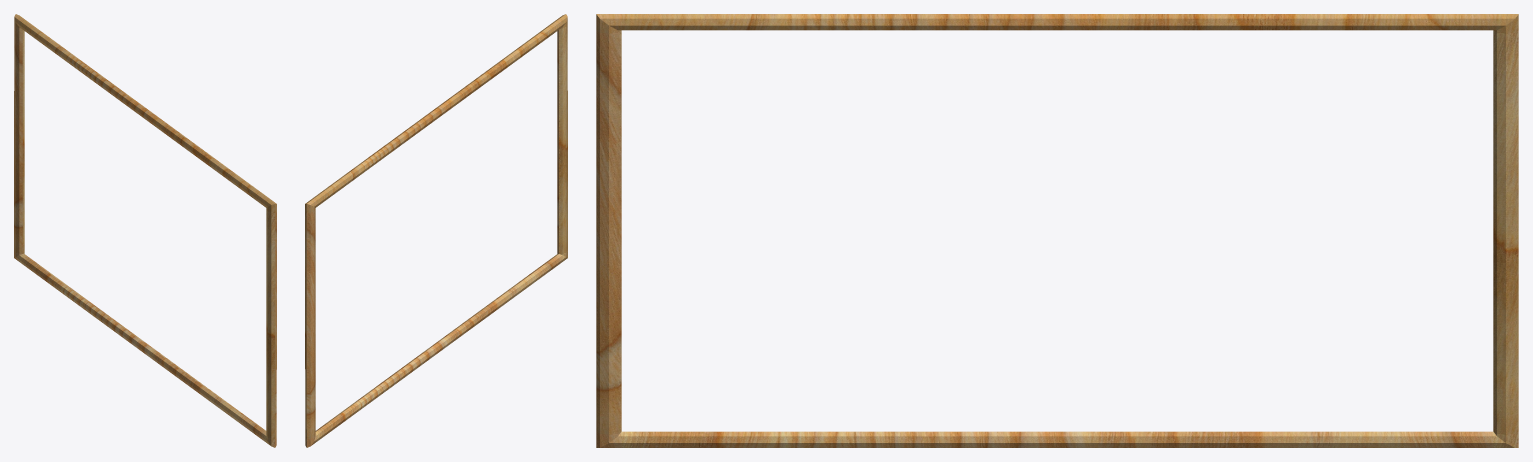
The model's file is picture_left_frame.obj.
The picture shows the model from 3 angles, left to right: view 1: azimuth 30°, elevation 25°; view 2: azimuth 150°, elevation 25°; view 3: azimuth 270°, elevation 25°; orthographic projection. The views are drawn at different scales.
Visible parts, largest first — view 1: picture003; view 2: picture003; view 3: picture003.
Boxes of the visible parts, <box> form: picture003: <box>14,14,276,447</box>; picture003: <box>305,14,567,447</box>; picture003: <box>596,14,1518,447</box>.
Size of the model in its own units: 2.16 by 66.05 by 127.
